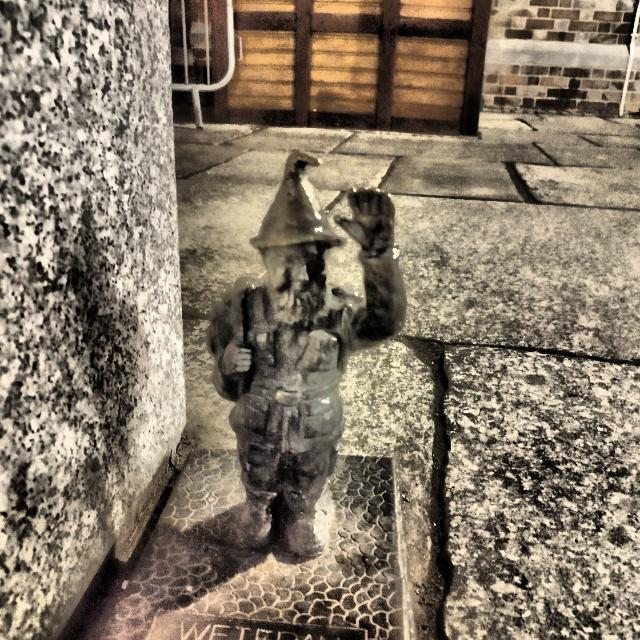Weteran: (208, 152, 405, 558)
